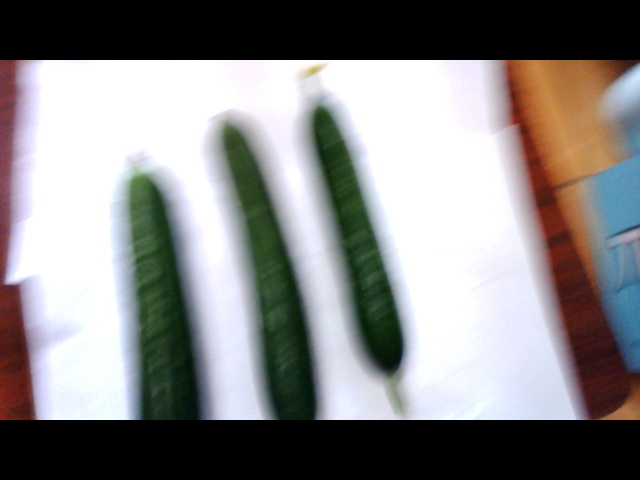cucumber: (309, 98, 419, 407), (213, 109, 314, 417), (106, 166, 207, 419)
